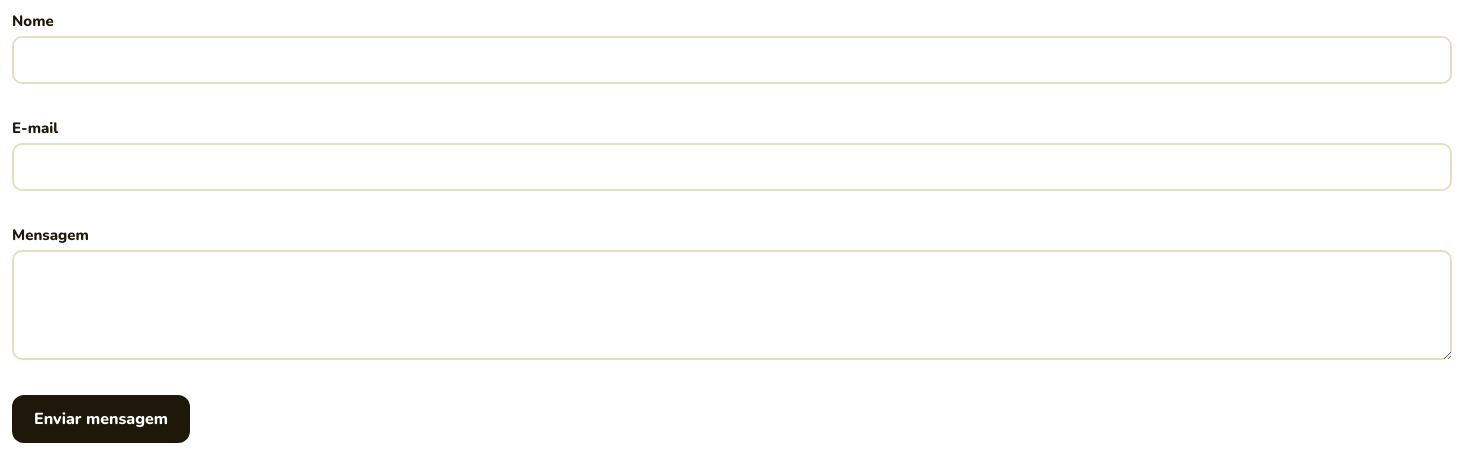
ContactForm › mostra uma mensagem específica em cada campo e não envia
The width and height of the screenshot is (1464, 465).
Click the button "Enviar mensagem". click: coordinates (101, 419)
box: left=12, top=395, right=190, bottom=443
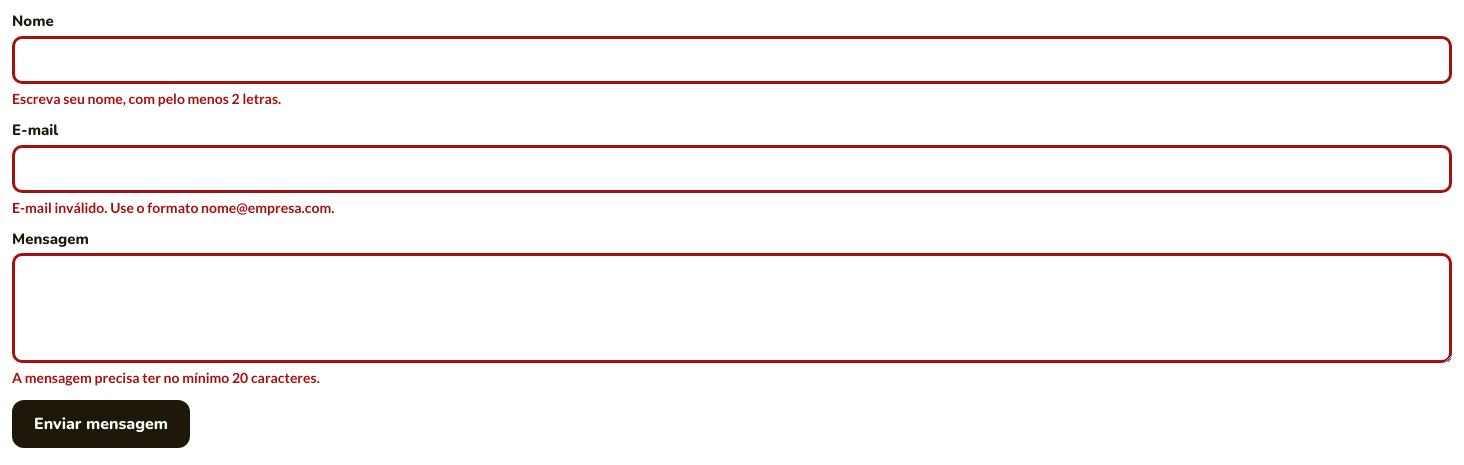
Expected: the text "Escreva seu nome, com pelo menos 2 letras." is shown, left=12, top=90, right=281, bottom=107
Expected: the text "E-mail inválido. Use o formato nome@empresa.com." is shown, left=12, top=198, right=334, bottom=216
Expected: the text "A mensagem precisa ter no mínimo 20 caracteres." is shown, left=12, top=369, right=320, bottom=386
